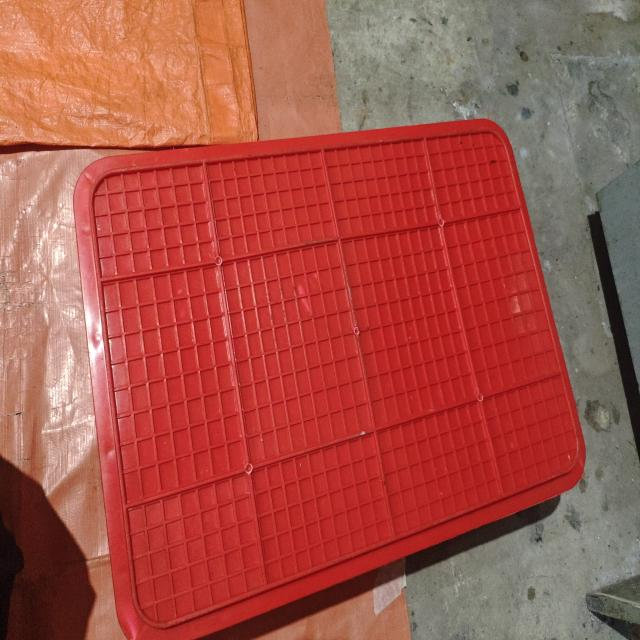red plastic box: (73, 118, 587, 640)
